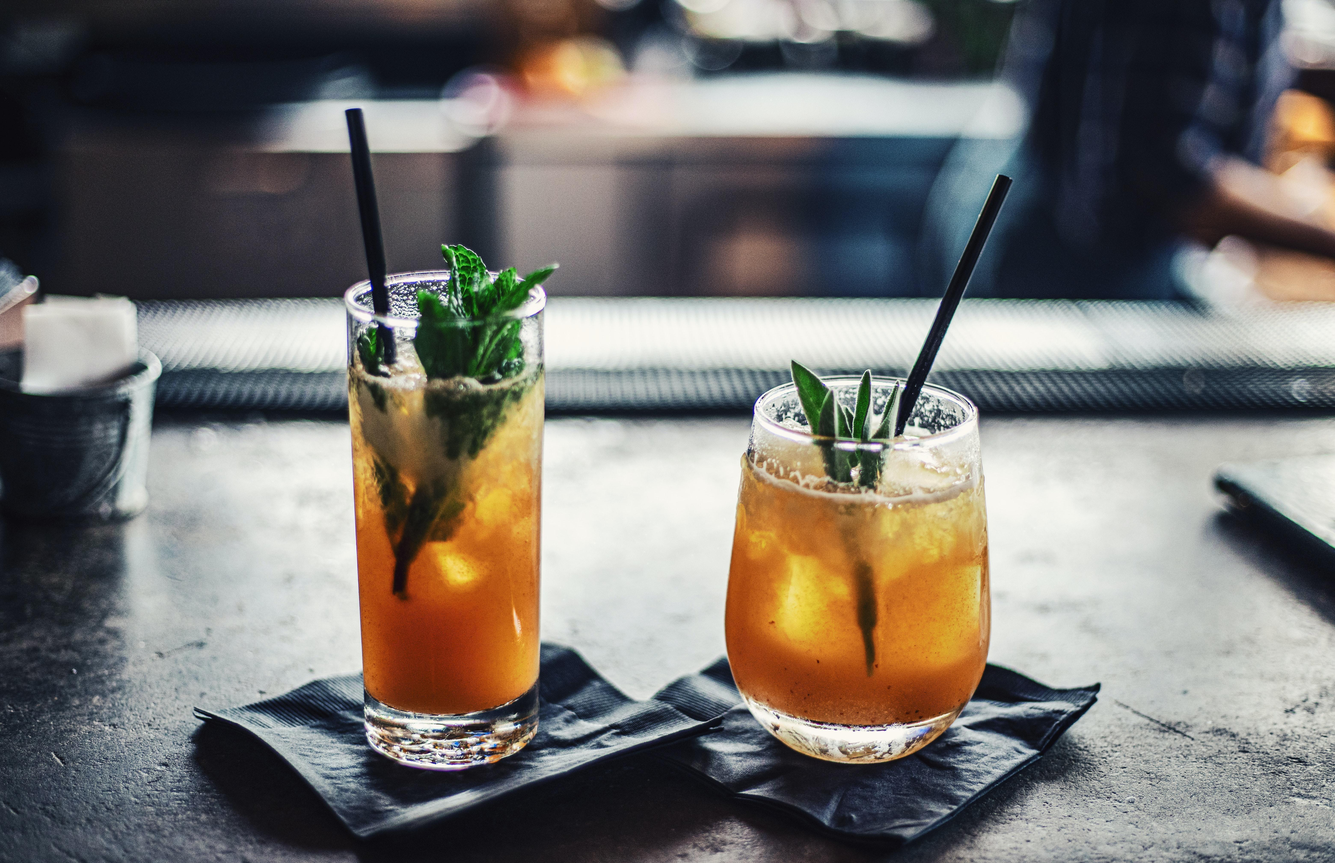glass-normal: (338, 263, 552, 774), (719, 369, 994, 764)
